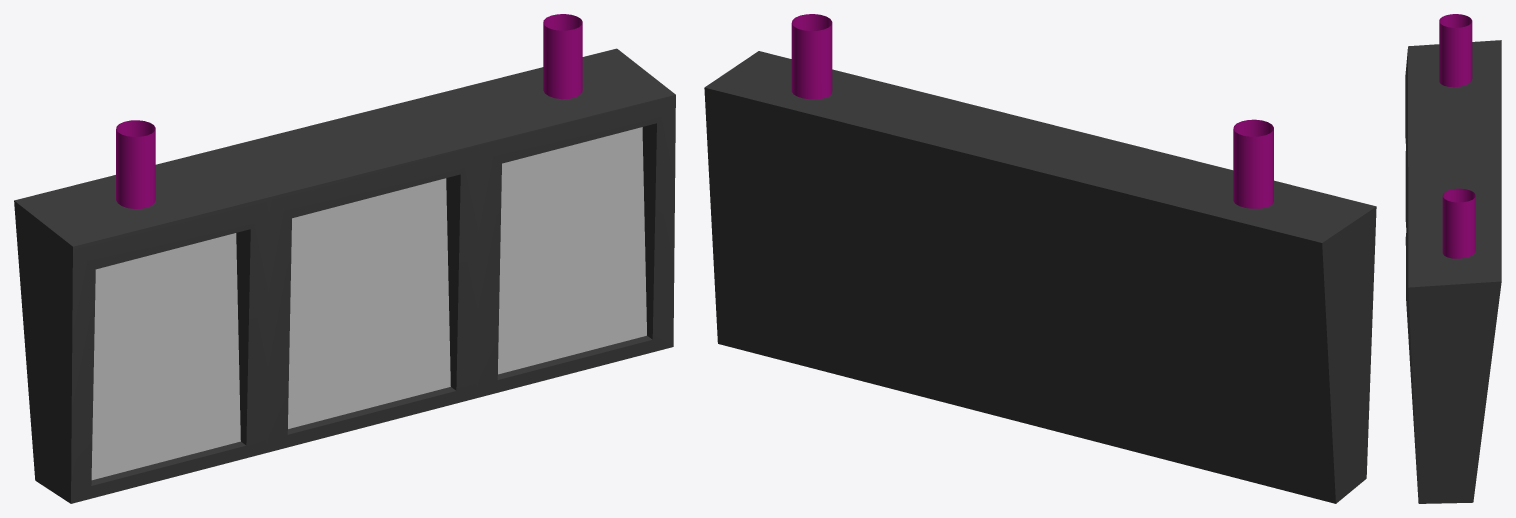
Rendered from menuboard_together_extended.fbx.
3 renders of one model, left to right at view 1: azimuth 30°, elevation 25°; view 2: azimuth 150°, elevation 25°; view 3: azimuth 270°, elevation 25°, orthographic. The views are drawn at different scales.
Parts seen in each view (by area): view 1: Box004, middleside, leftside, rightside; view 2: Box004; view 3: Box004.
Boxes of the visible parts, left/top/right/bottom form: Box004: left=14, top=14, right=675, bottom=503; middleside: left=288, top=178, right=450, bottom=428; leftside: left=91, top=233, right=240, bottom=480; rightside: left=498, top=127, right=646, bottom=374; Box004: left=704, top=14, right=1376, bottom=503; Box004: left=1405, top=14, right=1501, bottom=503.
Bounding box in the file's own units: 9102 × 4812 × 1495.
